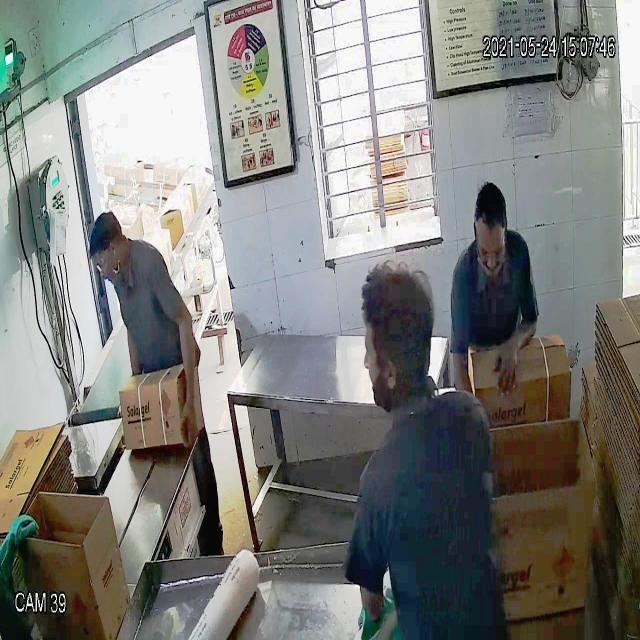glasses: (473, 236, 509, 270)
